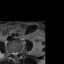CCS_normal: (14, 50, 16, 58)
LFS_normal: (18, 49, 20, 55)
LLS_normal: (16, 49, 18, 57)
RFS_normal: (10, 50, 12, 56)
RLS_normal: (12, 50, 14, 57)
